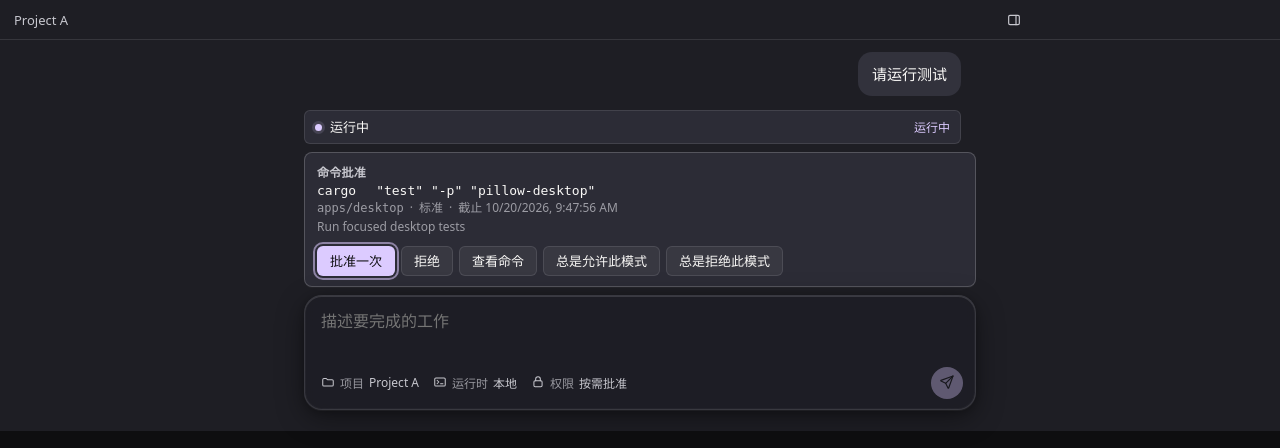
Test: C4 workbench process integration — terminal pane › shows durable-only notice when liveRetained is false
Click the button with test id "command-approval-review" at (498,261), box [459,246,537,276]
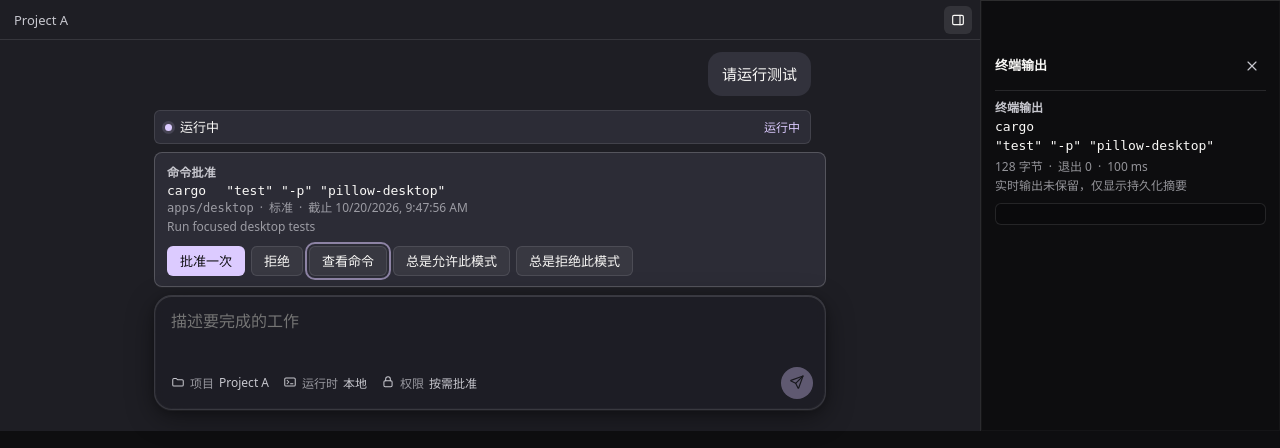
Expected: the element with test id "terminal-output-body" is empty, [995,203,1266,225]
Now the message with test id "terminal-output-durable-only" shows "实时输出未保留", box [995,178,1187,194]
Now the text with test id "terminal-output-bytes" shows "128", box [995,158,1016,175]
